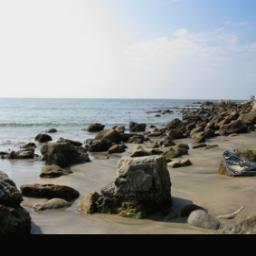Swallow: (221, 150, 256, 176)
